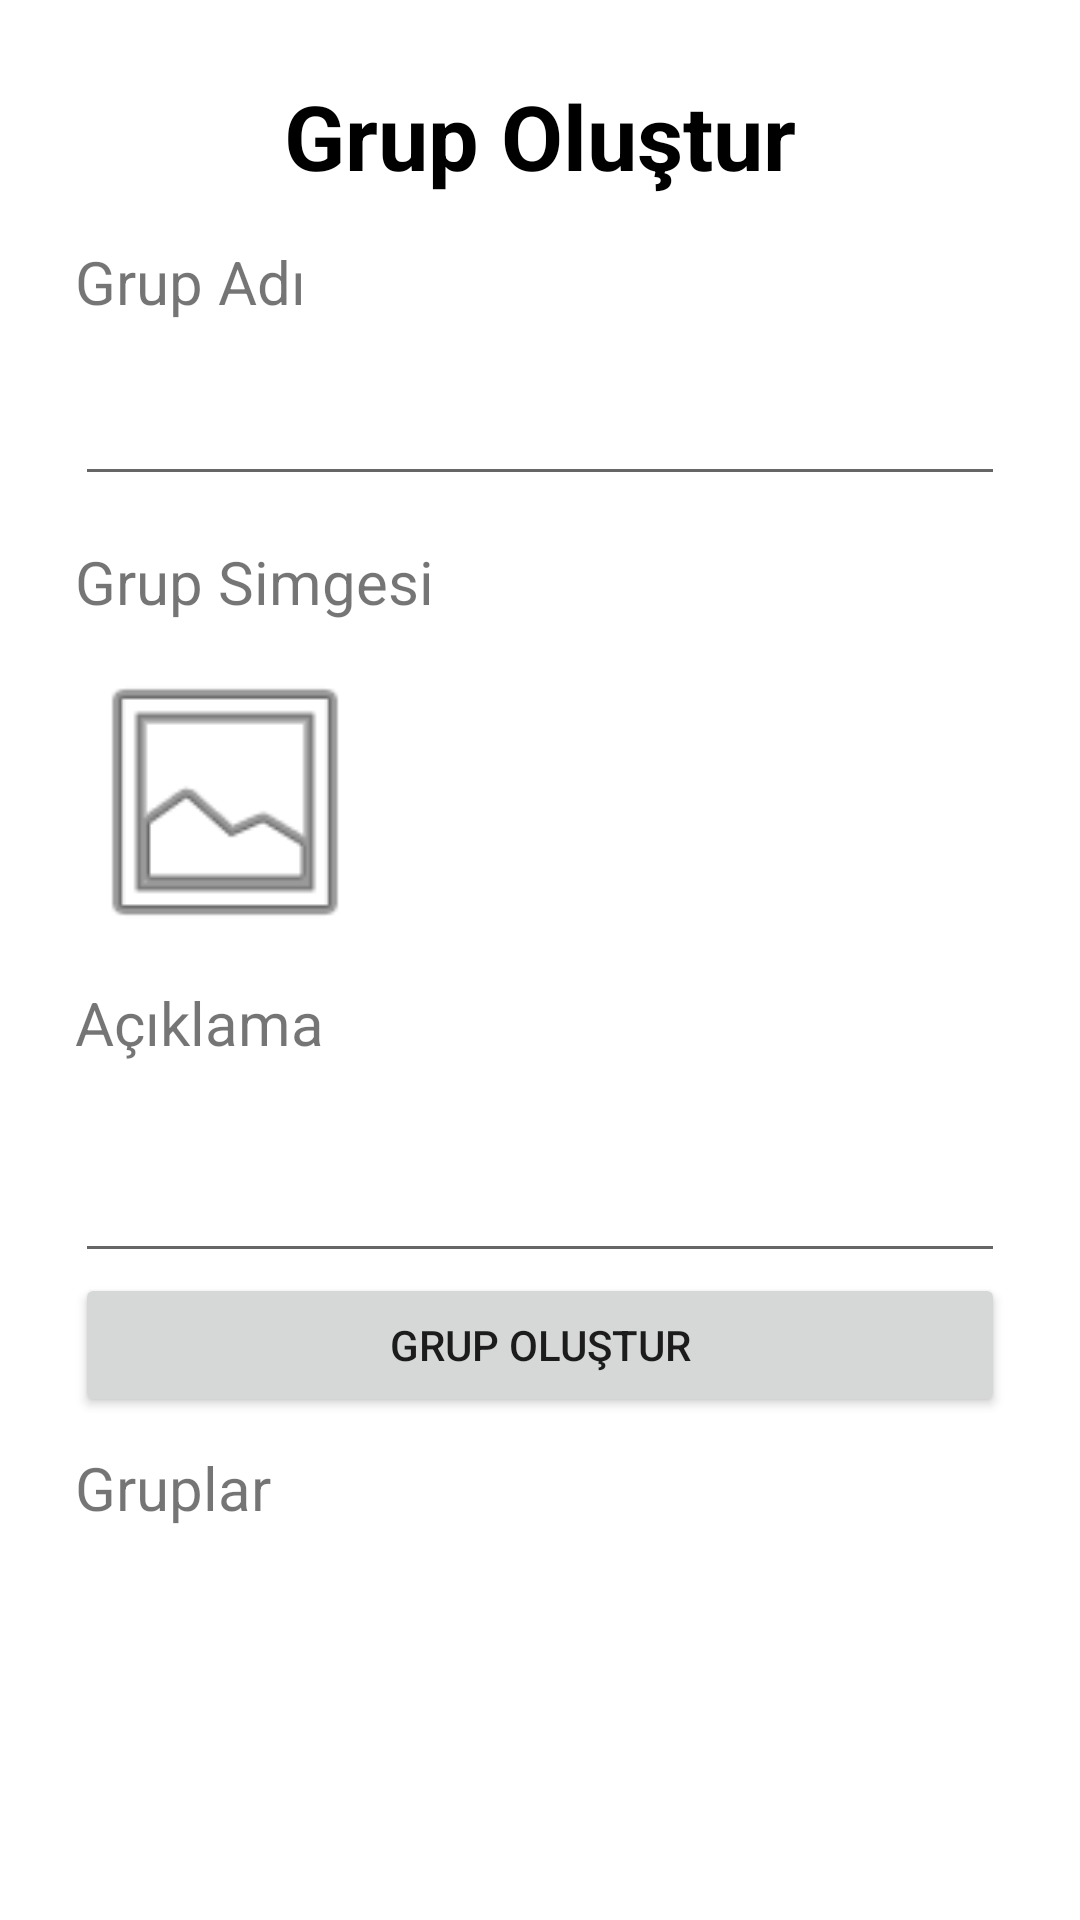

Where to tap for icons on this 1080*1920 app screen, as point (x, y):
gallery: point (225, 802)
